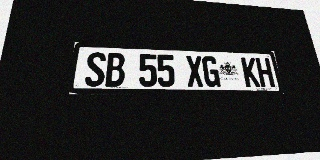5: (157, 54, 176, 87), (139, 54, 157, 87)
B: (105, 53, 125, 87)
G: (201, 56, 221, 87)
H: (255, 58, 275, 87)
K: (241, 57, 260, 87)
S: (84, 52, 106, 87)
X: (185, 55, 204, 87)
